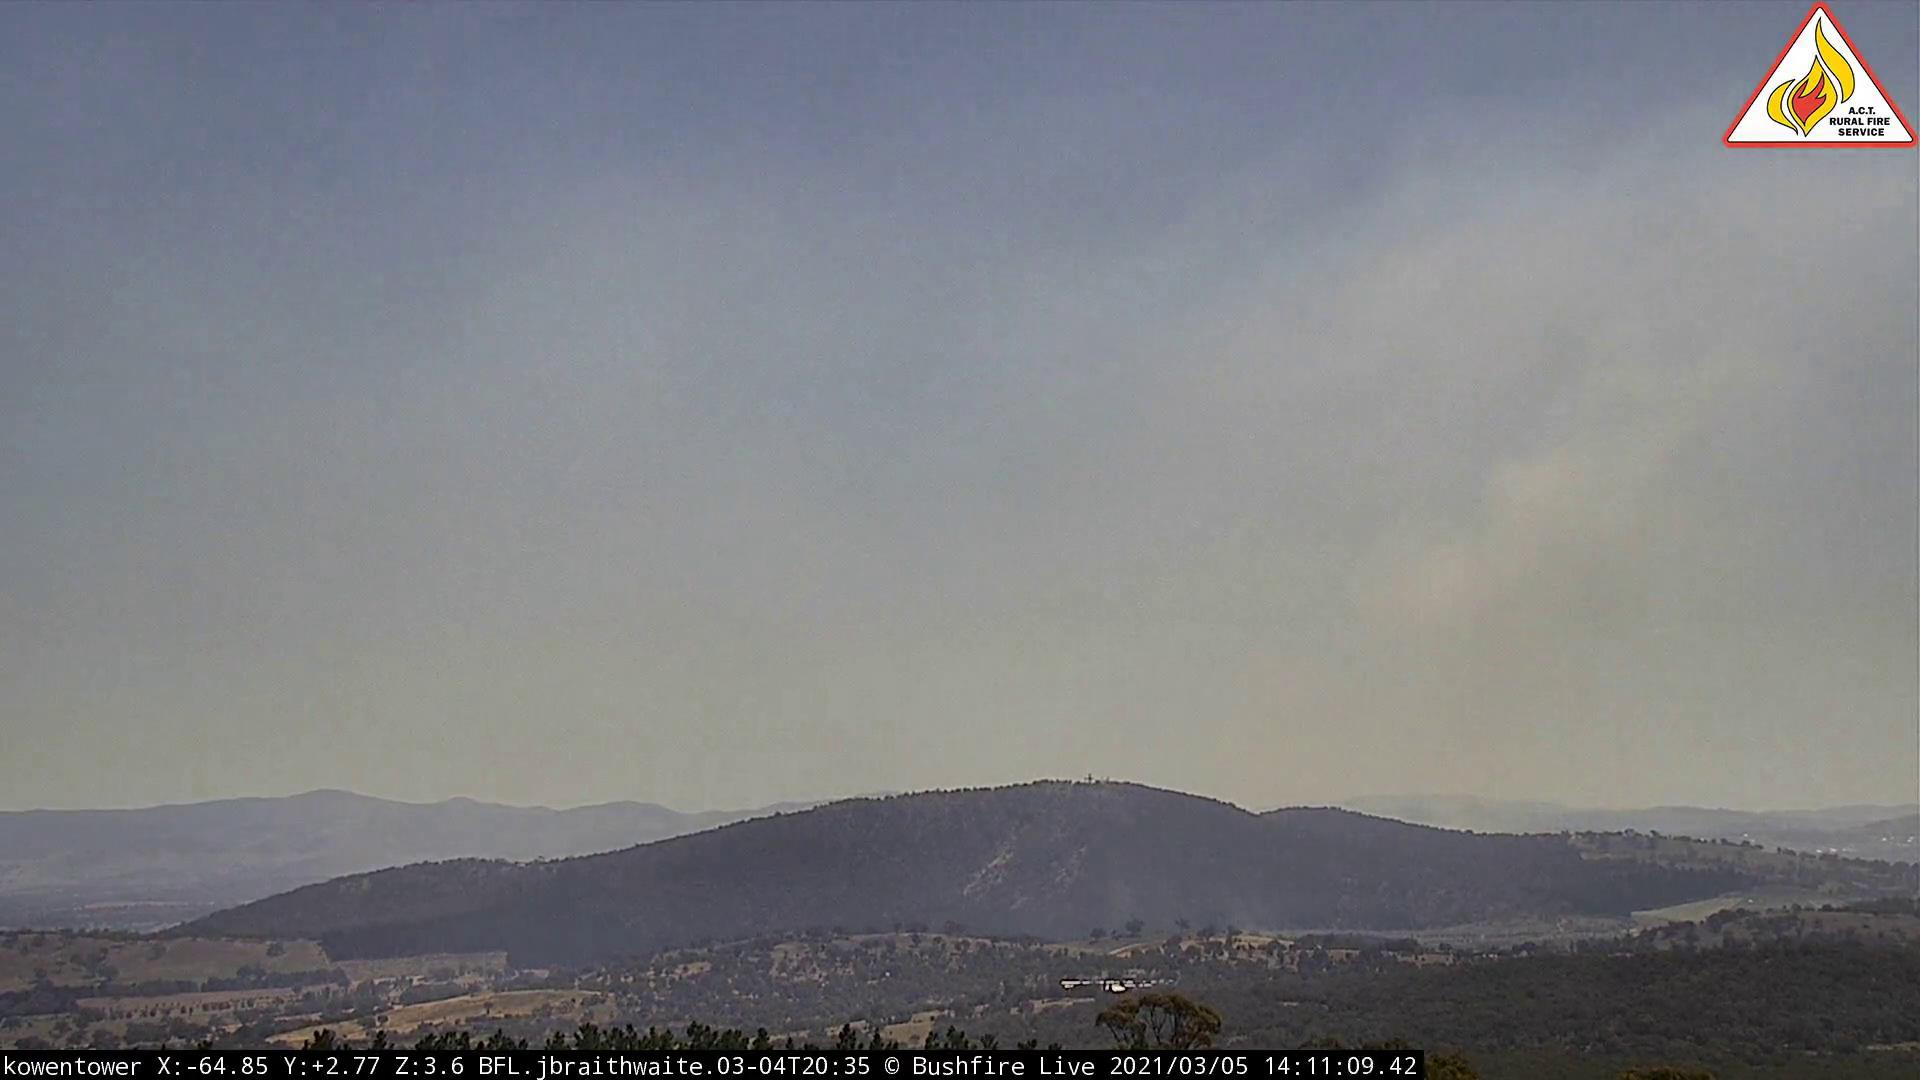Smoke: (1232, 392, 1727, 843)
